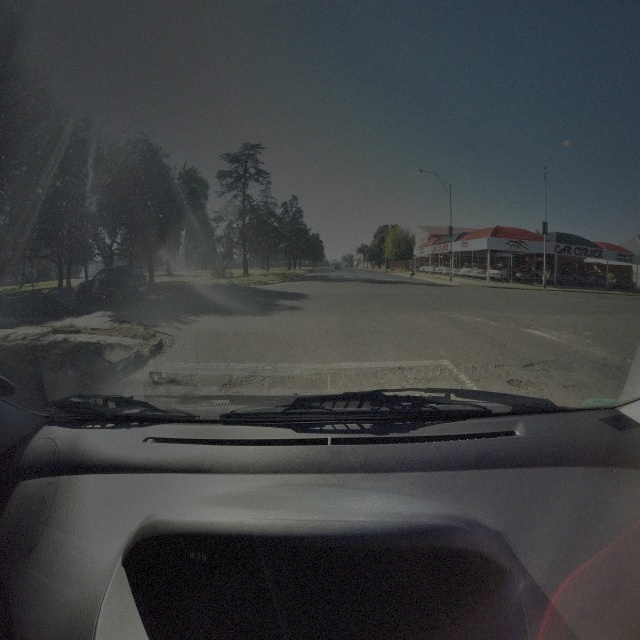pothole: (220, 372, 263, 390), (506, 377, 537, 393), (524, 362, 538, 372)
